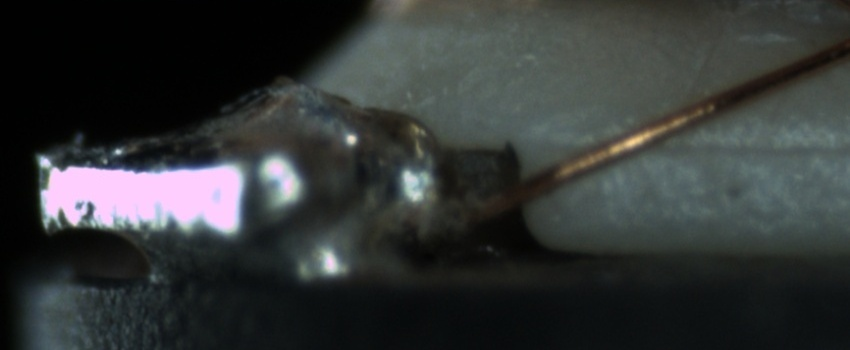DL: (608, 110, 848, 179)
